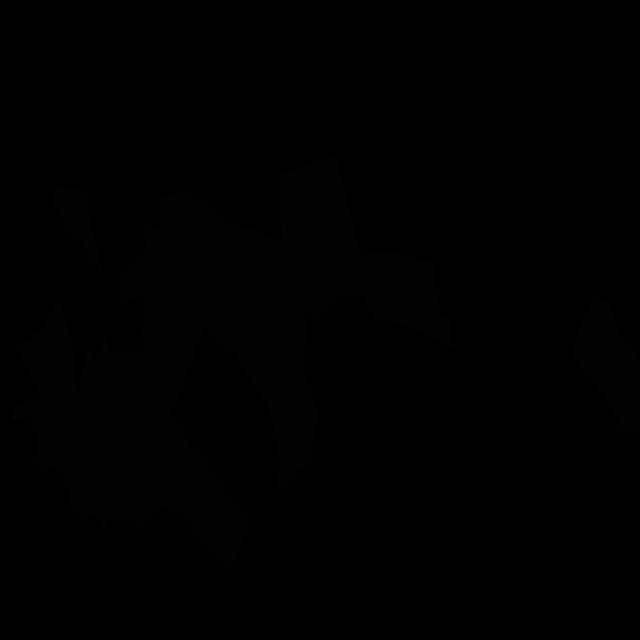cardboard: (9, 249, 294, 566), (145, 191, 320, 476), (278, 153, 365, 320), (349, 250, 454, 349), (570, 295, 640, 434), (49, 184, 103, 273)
